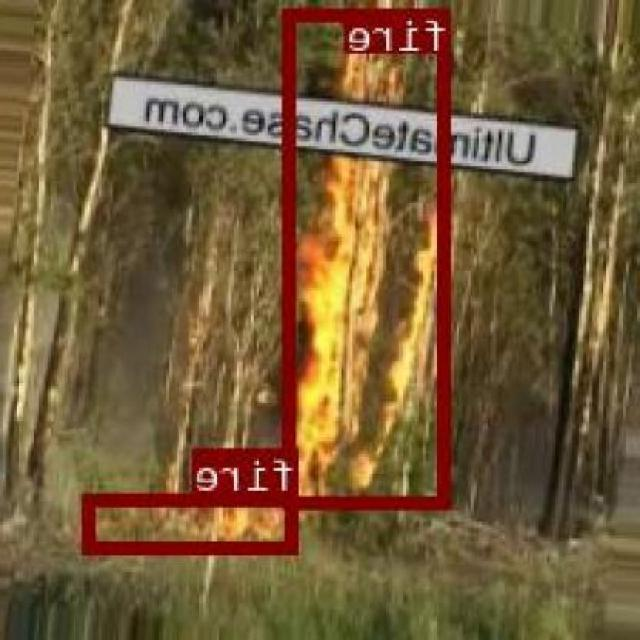Fire: (286, 6, 452, 506), (87, 492, 301, 551)
